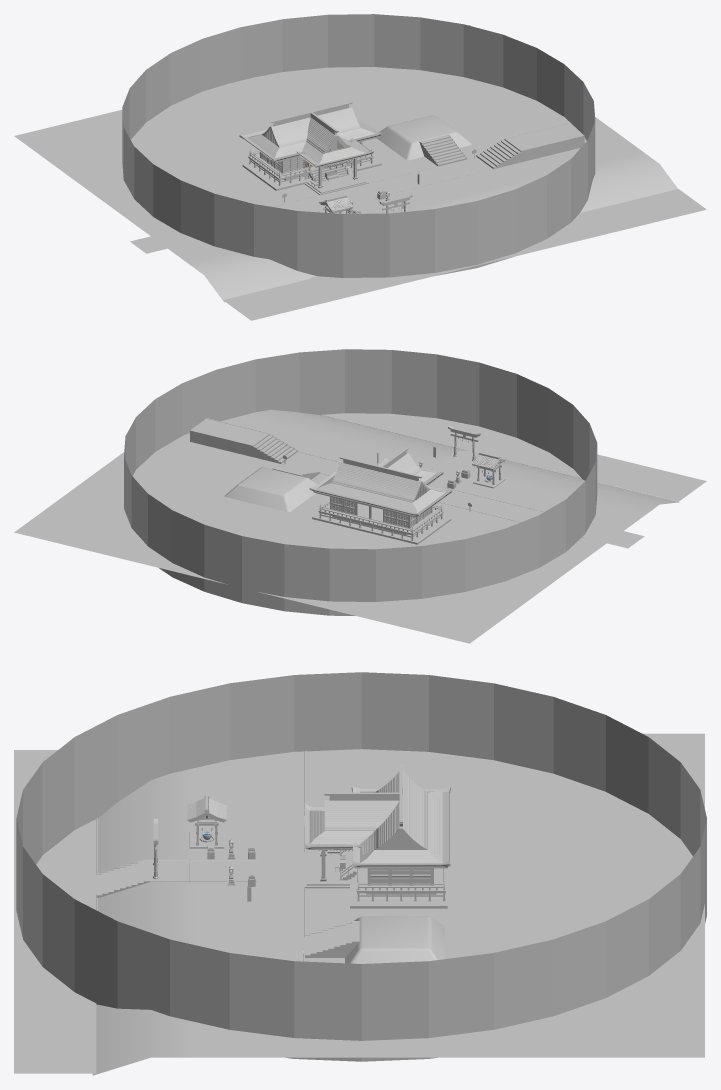
3 views of the same model, one above another, from view 1: azimuth 30°, elevation 25°; view 2: azimuth 150°, elevation 25°; view 3: azimuth 270°, elevation 25° (orthographic). The views are drawn at different scales.
Visible parts, largest first — view 1: Cylinder.001, land, Cube.049, land.001, Plane.001, Cube.002, Cube.034, Cube.027, Cube.009; view 2: Cylinder.001, land, Cube.049, land.001, Plane.001, Cube.002, Cube.034, Cube.009, Cylinder.002; view 3: Cylinder.001, land, Cube.049, land.001, Plane.001, Cube.034, Cube.009, Cube.027, Cylinder.002, Cube.012.
Boxes of the visible parts, x1=… form: Cylinder.001: x1=122, y1=14, x2=595, y2=277; land: x1=14, y1=25, x2=677, y2=302; Cube.049: x1=239, y1=101, x2=382, y2=195; land.001: x1=223, y1=189, x2=706, y2=320; Plane.001: x1=130, y1=157, x2=492, y2=253; Cube.002: x1=476, y1=124, x2=584, y2=168; Cube.034: x1=376, y1=115, x2=471, y2=160; Cube.027: x1=419, y1=135, x2=467, y2=166; Cube.009: x1=171, y1=123, x2=584, y2=278; Cylinder.001: x1=124, y1=349, x2=597, y2=615; land: x1=14, y1=409, x2=678, y2=643; Cube.049: x1=309, y1=447, x2=452, y2=544; land.001: x1=322, y1=413, x2=706, y2=501; Plane.001: x1=282, y1=452, x2=644, y2=548; Cube.002: x1=190, y1=418, x2=297, y2=463; Cube.034: x1=224, y1=467, x2=317, y2=512; Cube.009: x1=190, y1=415, x2=592, y2=538; Cylinder.002: x1=472, y1=452, x2=506, y2=484; Cylinder.001: x1=16, y1=672, x2=706, y2=1061; land: x1=92, y1=733, x2=704, y2=1075; Cube.049: x1=304, y1=764, x2=450, y2=908; land.001: x1=14, y1=750, x2=96, y2=1073; Plane.001: x1=151, y1=751, x2=304, y2=961; Cube.034: x1=345, y1=916, x2=444, y2=963; Cube.009: x1=96, y1=751, x2=359, y2=961; Cube.027: x1=305, y1=921, x2=359, y2=957; Cylinder.002: x1=187, y1=795, x2=226, y2=845; Cube.012: x1=96, y1=860, x2=151, y2=894.
Bounding box in the file's own units: 8941 × 1212 × 7727.
